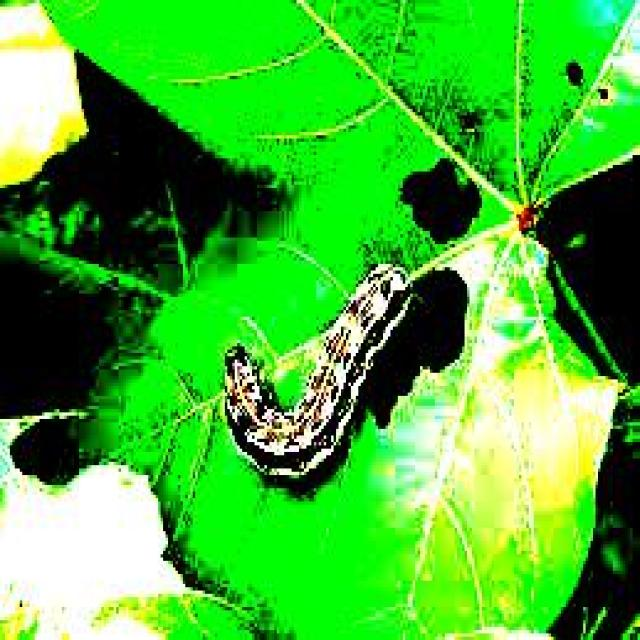Armyworm: (199, 222, 415, 511)
Armyworm_damage: (390, 117, 503, 254)
